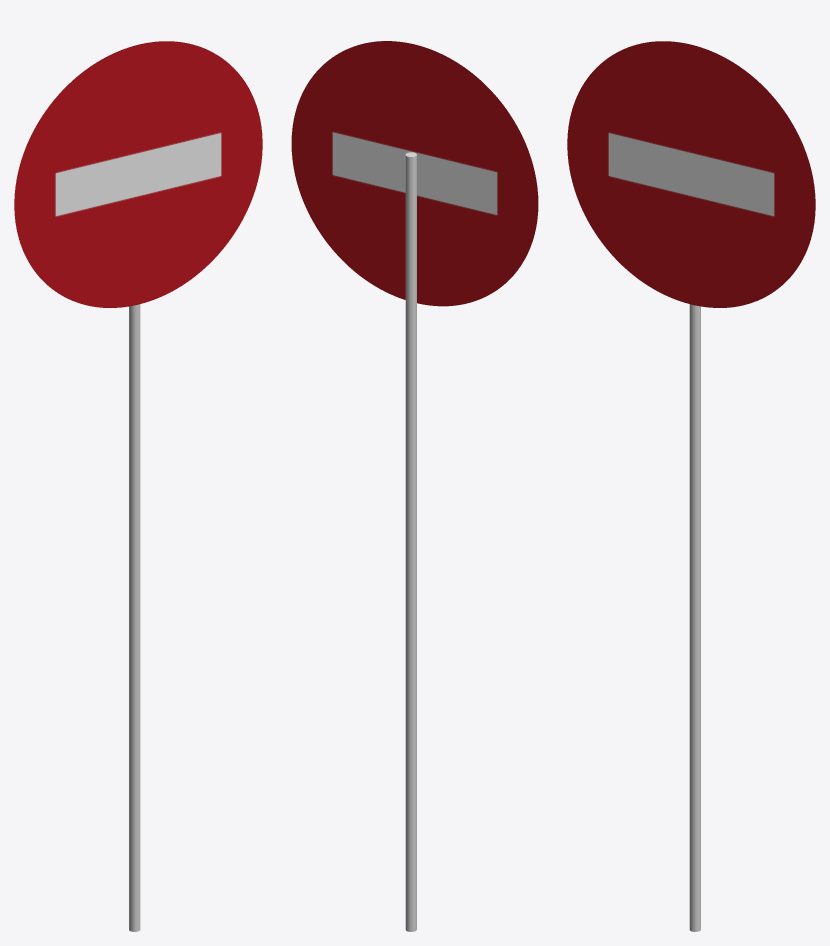
Rendered from dilarang masuk.fbx.
3 views of the same model, side by side, from view 1: azimuth 30°, elevation 25°; view 2: azimuth 150°, elevation 25°; view 3: azimuth 330°, elevation 25° (orthographic).
Visible parts, largest first — view 1: Plane, Cylinder; view 2: Plane, Cylinder; view 3: Plane, Cylinder.
Part boxes in pixels (<box>): Plane: <box>14,41,262,307</box>; Cylinder: <box>129,304,140,931</box>; Plane: <box>291,41,538,306</box>; Cylinder: <box>405,152,416,931</box>; Plane: <box>567,41,815,307</box>; Cylinder: <box>689,304,700,931</box>.
Bounding box in the file's own units: 200 × 682 × 9.27.
